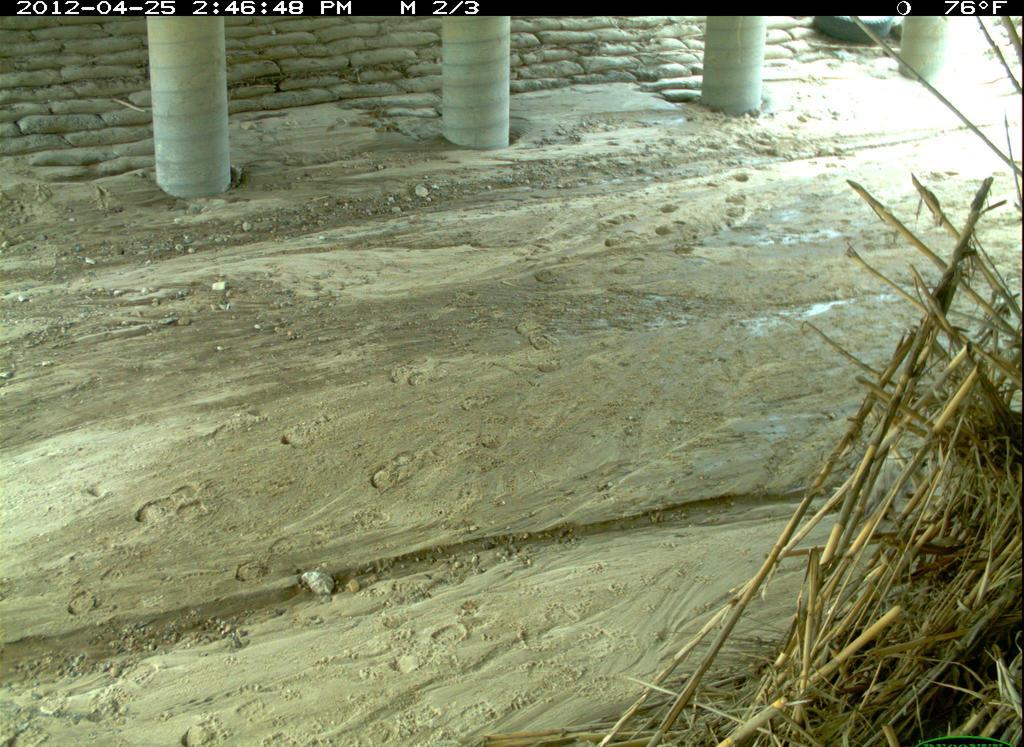opossum: (848, 446, 943, 531)
